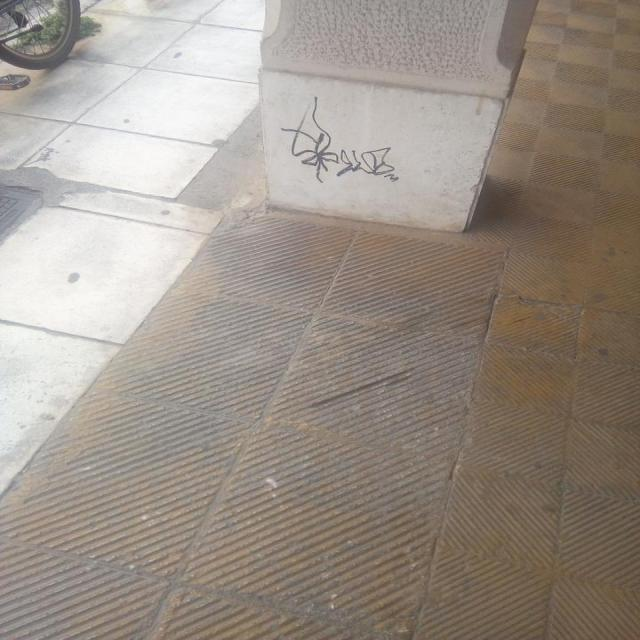nonspitting: (281, 99, 399, 184)
